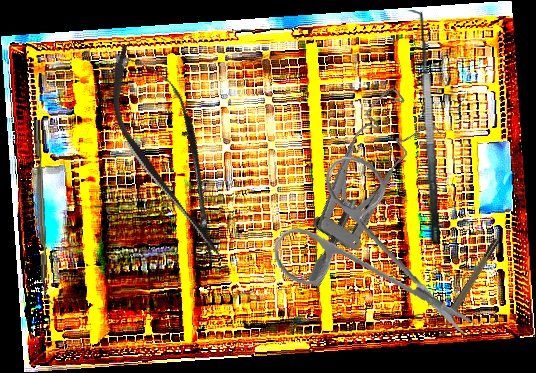Chopper: (33, 119, 56, 305)
Fixation Ring: (431, 236, 506, 340)
Iris Scissors: (263, 143, 474, 357)
Micro Scissor: (90, 32, 249, 274)
Spatula Surgical: (402, 9, 443, 245)
Speculum: (254, 82, 457, 291)
